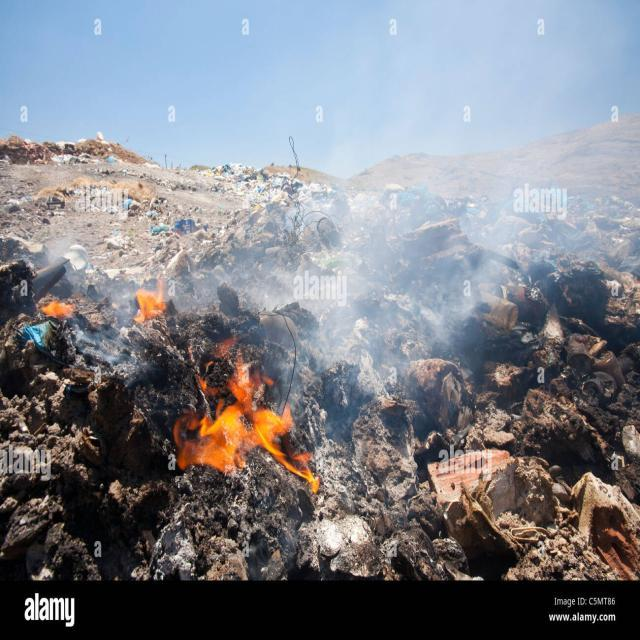Fire: (182, 364, 324, 489), (134, 276, 174, 326), (40, 294, 76, 322)
Smoke: (108, 31, 640, 403)
